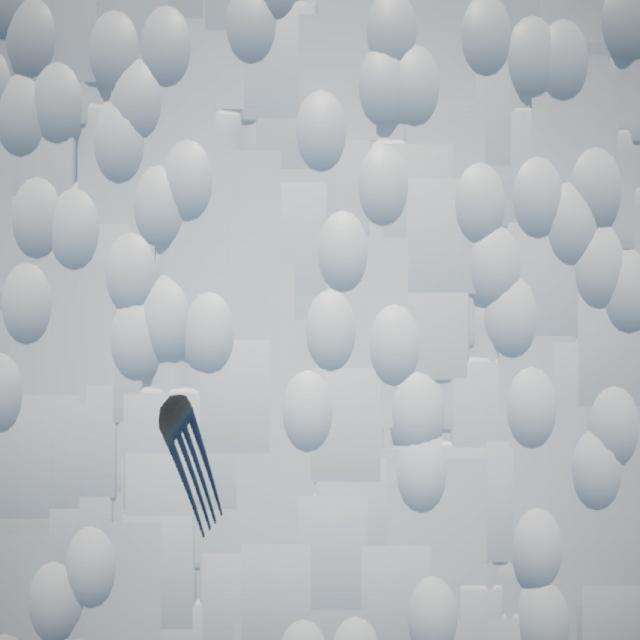top_folk: (159, 396, 224, 539)
